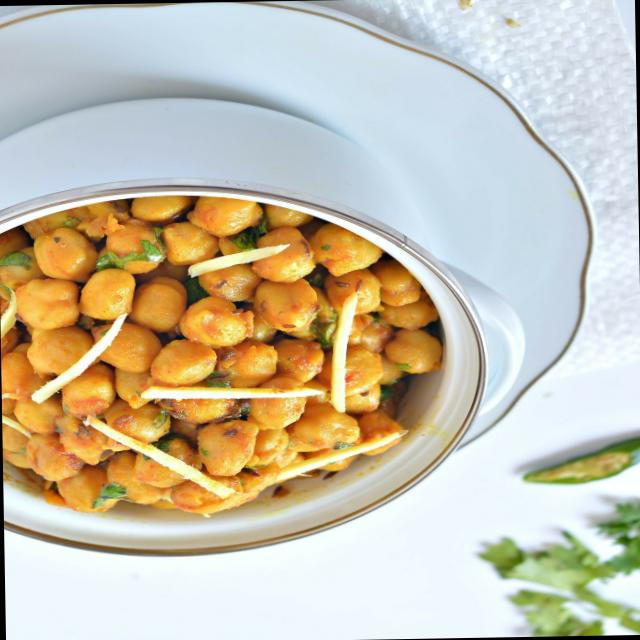Chole: (0, 191, 446, 516)
